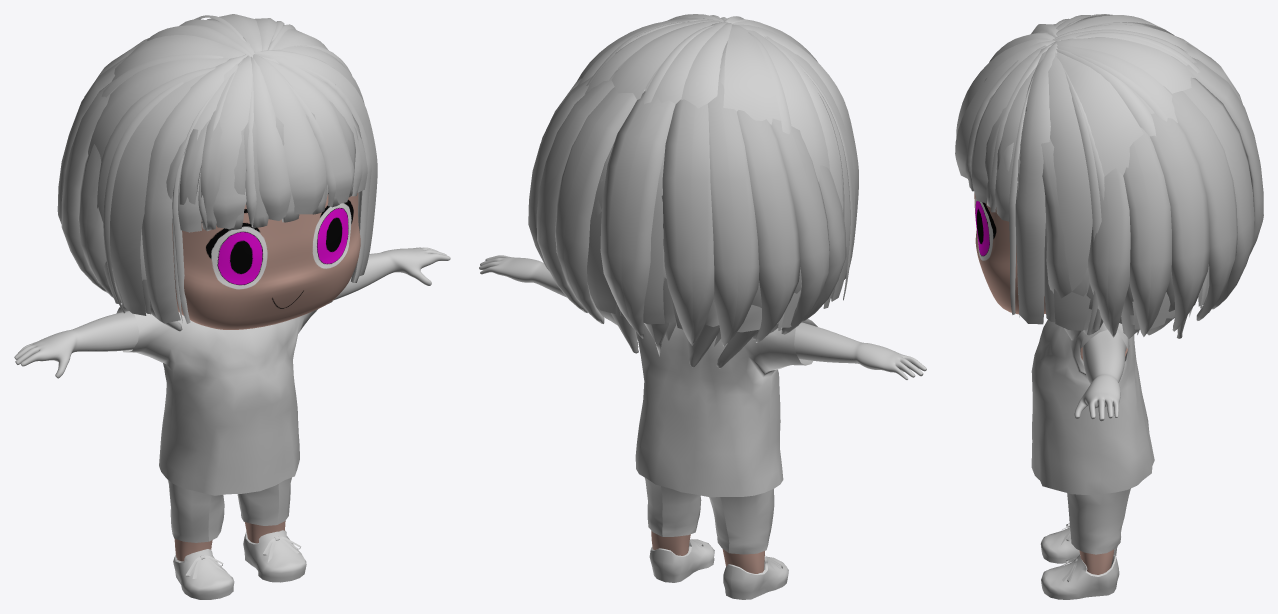
Rendered from nora.fbx.
3 views of the same model, side by side, from view 1: azimuth 30°, elevation 25°; view 2: azimuth 150°, elevation 25°; view 3: azimuth 270°, elevation 25° (orthographic). The views are drawn at different scales.
Parts seen in each view (by area): view 1: Hair, Shirt, Body, Front_parts13_148, Front_parts13_267, Shoes, Pants, Arm_Right, Arm_Left; view 2: Front_parts13_148, Hair, Shirt, Pants, Shoes, Arm_Right, Arm_Left, Body; view 3: Hair, Front_parts13_148, Shirt, Body, Shoes, Pants, Arm_Left, Front_parts13_267.
Part boxes in pixels (x1,y1,x2,y2): Hair: [88, 14, 377, 323]; Shirt: [116, 301, 332, 495]; Body: [172, 193, 360, 561]; Front_parts13_148: [57, 38, 335, 331]; Front_parts13_267: [166, 100, 361, 229]; Shoes: [173, 530, 306, 599]; Pants: [168, 477, 291, 542]; Arm_Right: [14, 311, 138, 378]; Arm_Left: [333, 247, 450, 300]; Front_parts13_148: [528, 69, 846, 368]; Hair: [577, 14, 858, 346]; Shirt: [596, 307, 817, 497]; Pants: [645, 478, 774, 554]; Shoes: [649, 539, 788, 599]; Arm_Right: [794, 322, 926, 379]; Arm_Left: [479, 255, 567, 297]; Body: [651, 531, 764, 573]; Hair: [955, 14, 1209, 335]; Front_parts13_148: [1026, 36, 1263, 340]; Shirt: [1031, 320, 1154, 494]; Body: [974, 193, 1127, 574]; Shoes: [1040, 523, 1119, 599]; Pants: [1067, 488, 1130, 554]; Arm_Left: [1074, 330, 1126, 421]; Front_parts13_267: [968, 78, 1020, 207].
Size of the model in its own units: 241 by 288 by 149.
